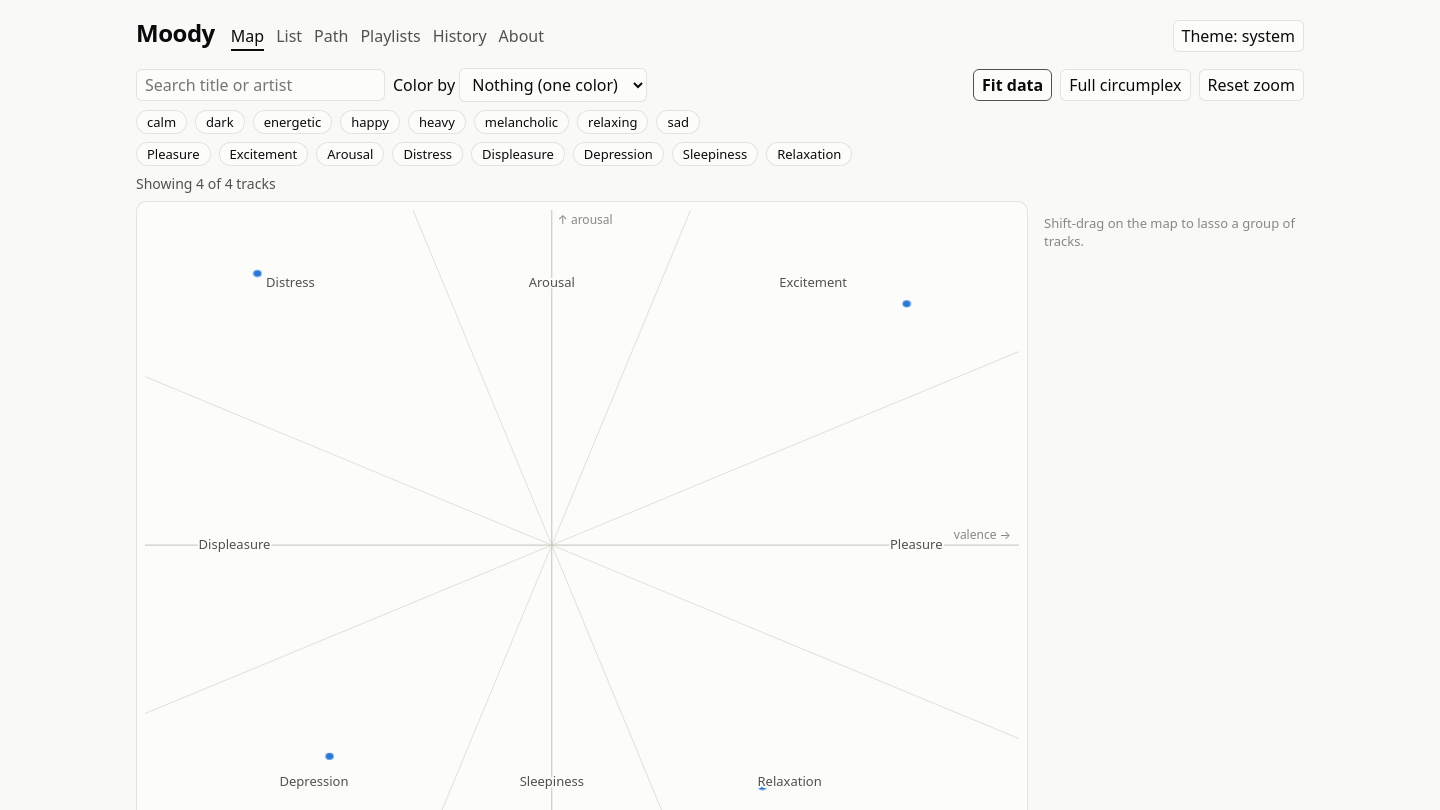
Scenario: color by 2007 vs 2026 shows a categorical legend with counts
This screenshot has width=1440, height=810.
Select "2007 vs 2026 octant" in the dropdown labelled "Color by" at (553, 85), box [459,68,647,102]
(page scrolled)
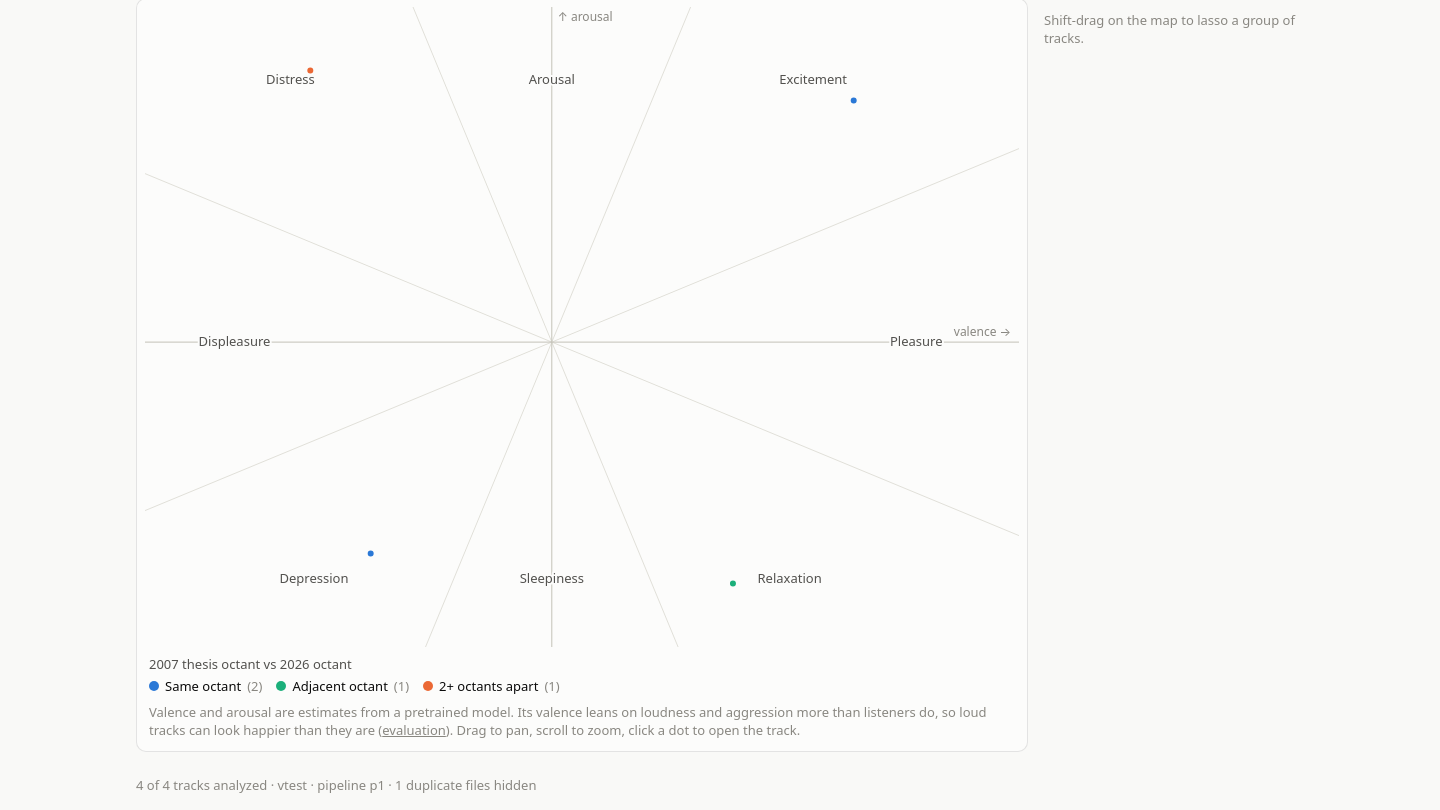
Check: the list item "Same octant" is shown, box [165,677,241,695]
Check: the text "(2)" is shown, box [247,677,262,695]
Check: the list item "2+ octants apart" is shown, box [439,677,538,695]
